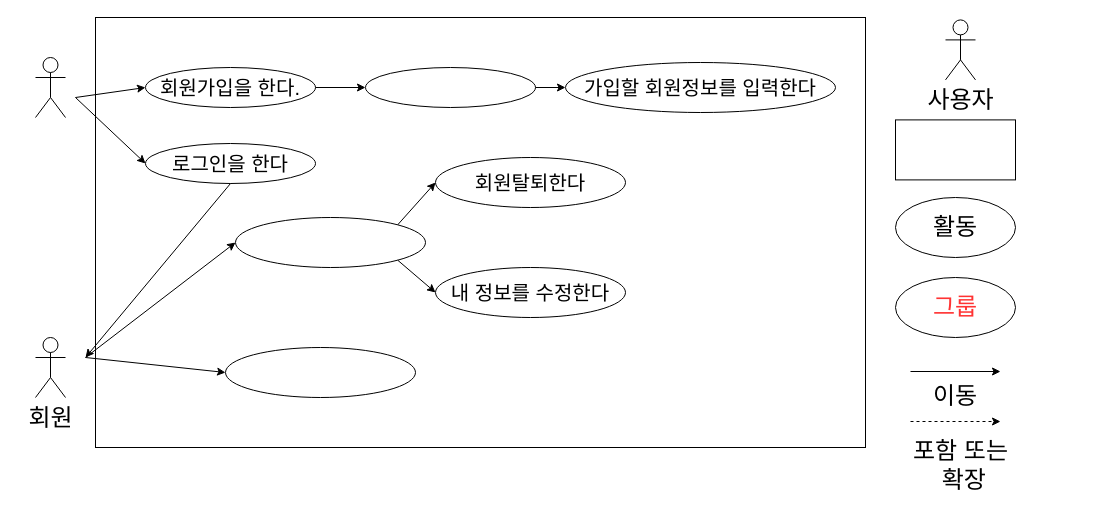
Some shapes in this 1100 by 512 pixel diagram are drawn without their labels. The shapes that lost their labels are listed below. From the top down, each one's box as (x1, y1, x2, y2) in pixels, then its label:
(34, 56, 66, 118): 비회원
(364, 66, 536, 108): 약관에 동의한다
(894, 119, 1016, 180): 시스템
(234, 216, 426, 268): 내 정보를 조회한다
(224, 346, 416, 398): 로그아웃한다
